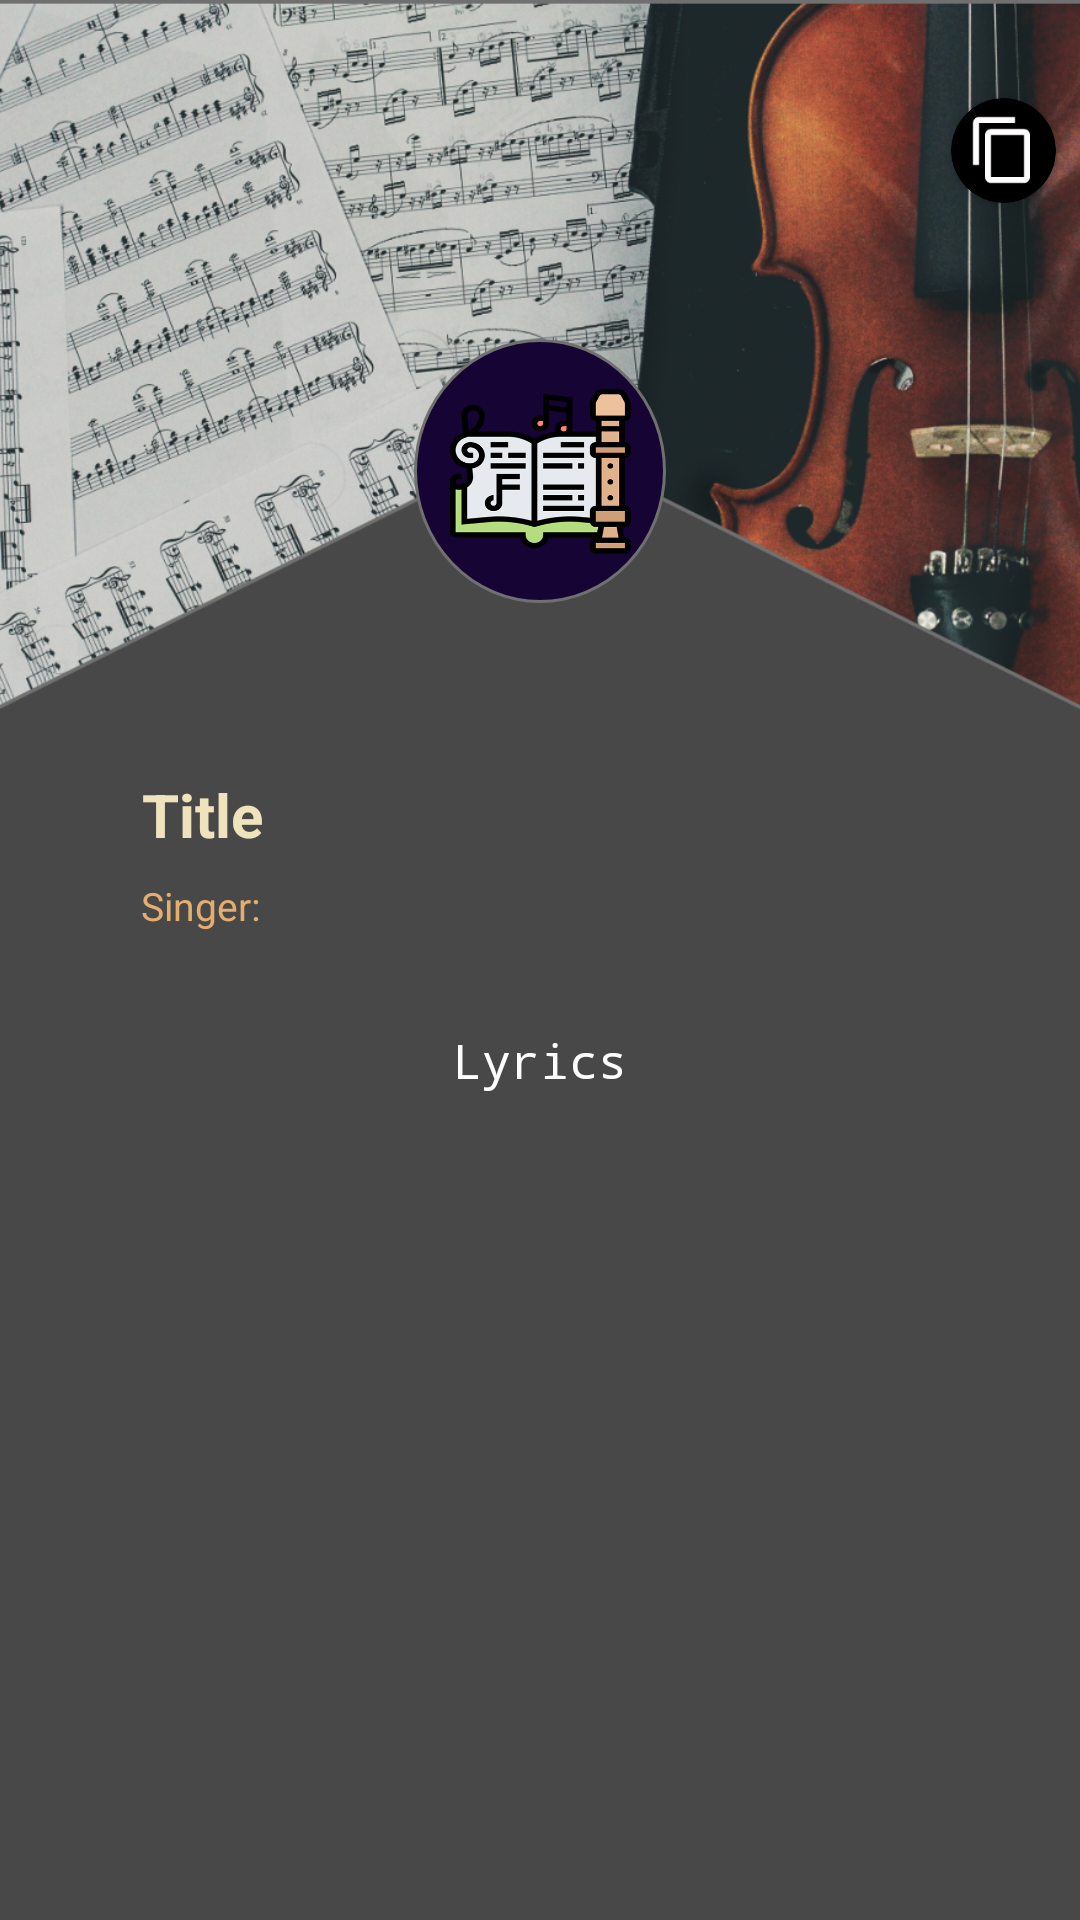

Icon click points for this 1080x1920 phone screenshot, format point (x, y):
musi: point (540, 471)
